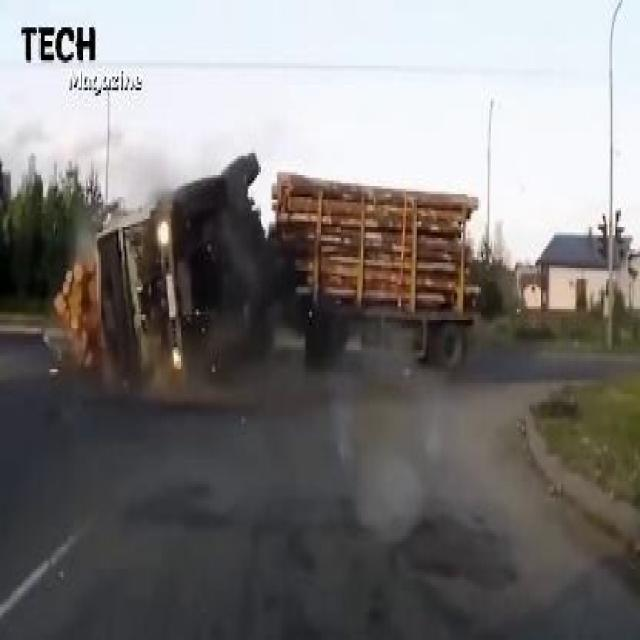accident: (52, 150, 477, 386)
